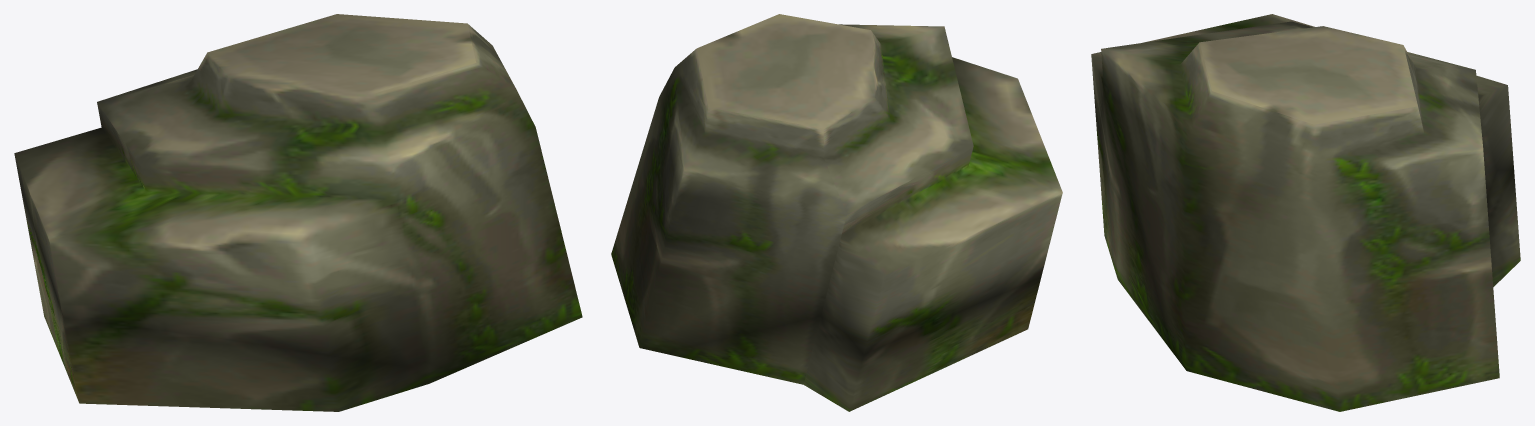
File: RockFormation_4_5 (61).fbx
The picture shows the model from 3 angles, left to right: view 1: azimuth 30°, elevation 25°; view 2: azimuth 150°, elevation 25°; view 3: azimuth 270°, elevation 25°; orthographic projection. The views are drawn at different scales.
Visible parts, largest first — view 1: RockFormation_4_5 (61); view 2: RockFormation_4_5 (61); view 3: RockFormation_4_5 (61).
Part boxes in pixels (left/top/right/bottom): RockFormation_4_5 (61): left=14, top=14, right=582, bottom=411; RockFormation_4_5 (61): left=611, top=14, right=1062, bottom=411; RockFormation_4_5 (61): left=1091, top=14, right=1520, bottom=411.
Size of the model in its own units: 388 by 219 by 300.
